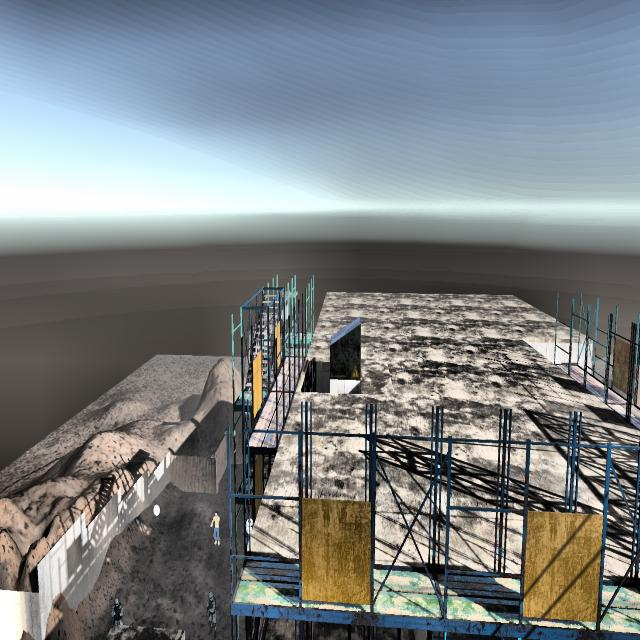bad: (201, 585, 223, 640), (110, 590, 126, 626)
good: (206, 507, 222, 557)
